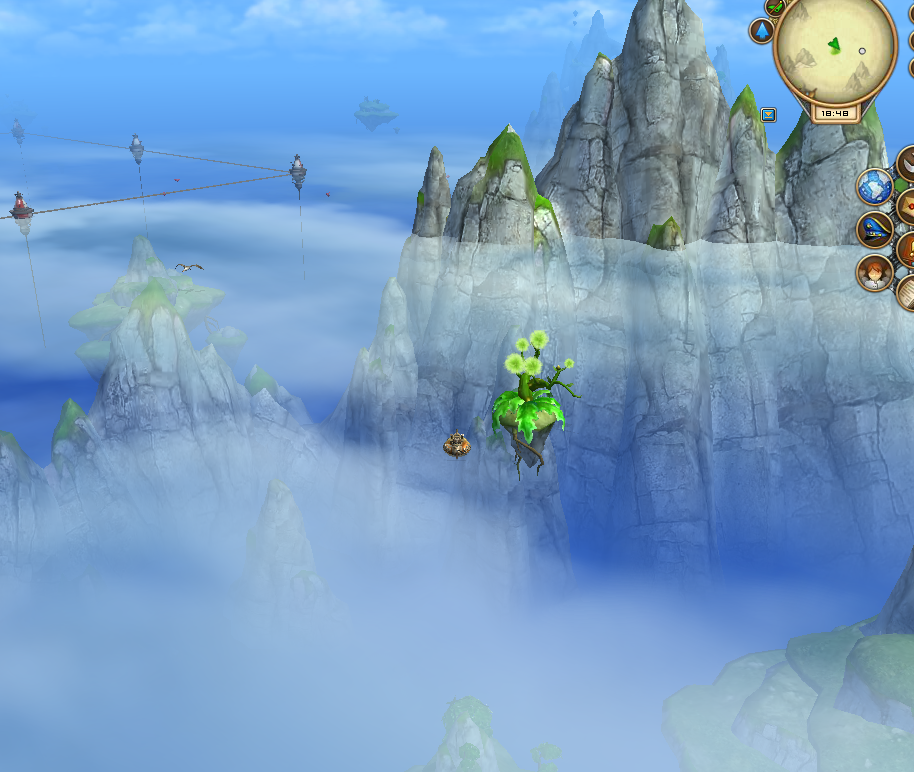dandelion-full: (484, 324, 583, 472)
